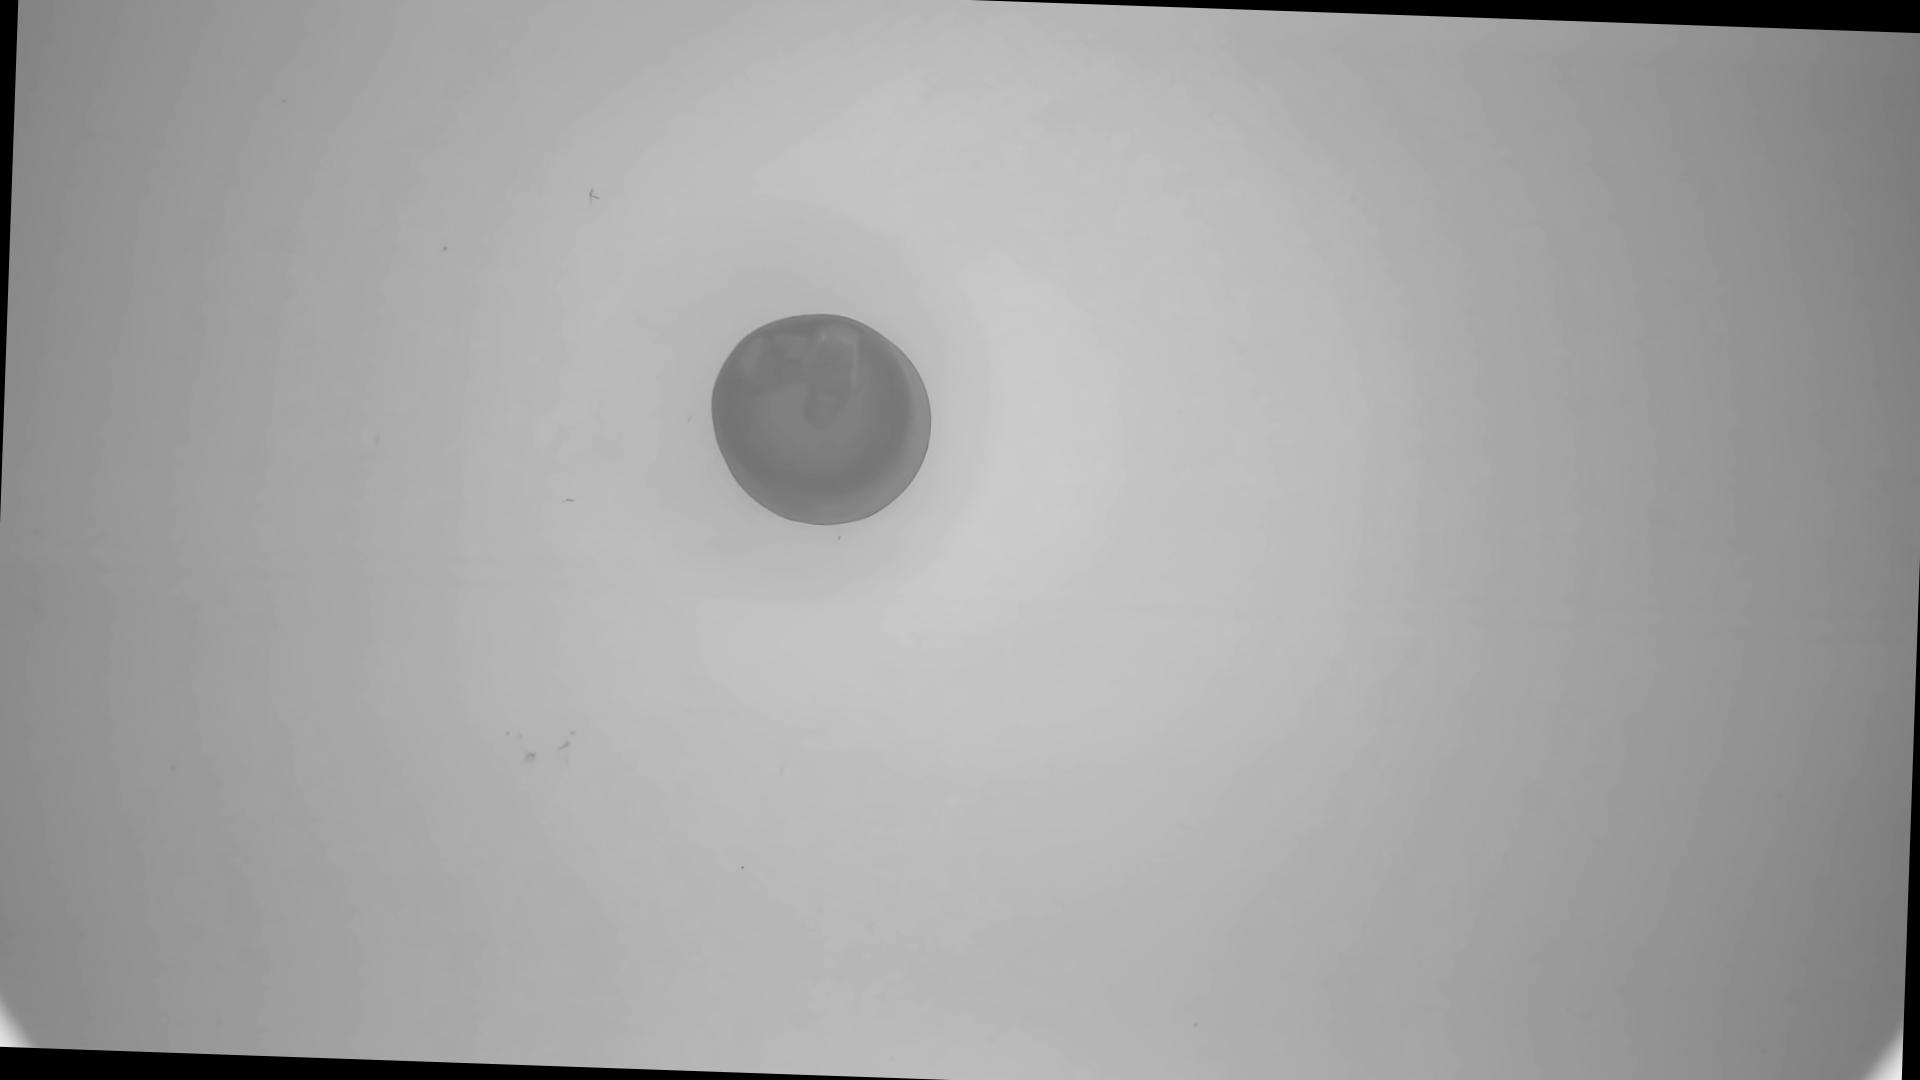abnormal: (708, 309, 940, 531)
